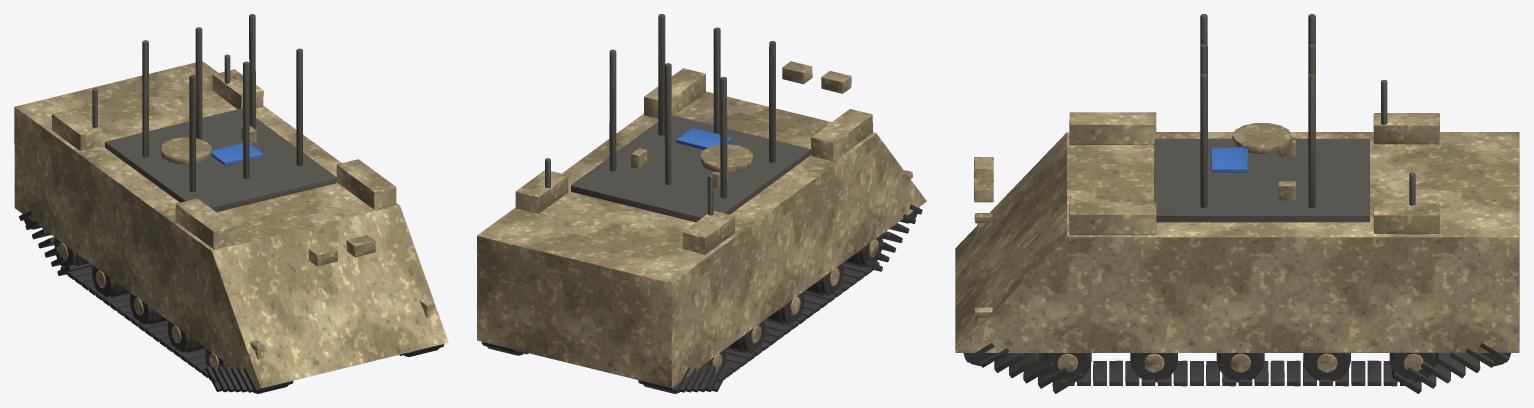
File: cmd_e4_us_command_LOD1.glb
The picture shows the model from 3 angles, left to right: view 1: azimuth 30°, elevation 25°; view 2: azimuth 150°, elevation 25°; view 3: azimuth 270°, elevation 25°; orthographic projection. The views are drawn at different scales.
Parts seen in each view (by area): view 1: cmd_e4_us_command_LOD1_body, cmd_e4_us_command_LOD1_deck, cmd_e4_us_command_LOD1_track, cmd_e4_us_command_LOD1_team, cmd_e4_us_command_LOD1_gun; view 2: cmd_e4_us_command_LOD1_body, cmd_e4_us_command_LOD1_deck, cmd_e4_us_command_LOD1_track, cmd_e4_us_command_LOD1_team, cmd_e4_us_command_LOD1_gun; view 3: cmd_e4_us_command_LOD1_body, cmd_e4_us_command_LOD1_deck, cmd_e4_us_command_LOD1_track, cmd_e4_us_command_LOD1_team, cmd_e4_us_command_LOD1_gun.
Boxes of the visible parts, bbox=[...] form: cmd_e4_us_command_LOD1_body: bbox=[14, 61, 448, 388]; cmd_e4_us_command_LOD1_deck: bbox=[105, 14, 336, 212]; cmd_e4_us_command_LOD1_track: bbox=[19, 211, 444, 393]; cmd_e4_us_command_LOD1_team: bbox=[211, 143, 263, 165]; cmd_e4_us_command_LOD1_gun: bbox=[92, 54, 230, 127]; cmd_e4_us_command_LOD1_body: bbox=[477, 61, 926, 387]; cmd_e4_us_command_LOD1_deck: bbox=[571, 14, 810, 222]; cmd_e4_us_command_LOD1_track: bbox=[481, 204, 922, 393]; cmd_e4_us_command_LOD1_team: bbox=[676, 128, 732, 149]; cmd_e4_us_command_LOD1_gun: bbox=[545, 158, 713, 215]; cmd_e4_us_command_LOD1_body: bbox=[955, 112, 1519, 372]; cmd_e4_us_command_LOD1_deck: bbox=[1154, 14, 1369, 222]; cmd_e4_us_command_LOD1_track: bbox=[963, 343, 1510, 393]; cmd_e4_us_command_LOD1_team: bbox=[1211, 147, 1247, 172]; cmd_e4_us_command_LOD1_gun: bbox=[1381, 79, 1415, 205].
Bounding box in the file's own units: 3 × 3.94 × 6.79.
Materials: 5 (1 with a texture image).
